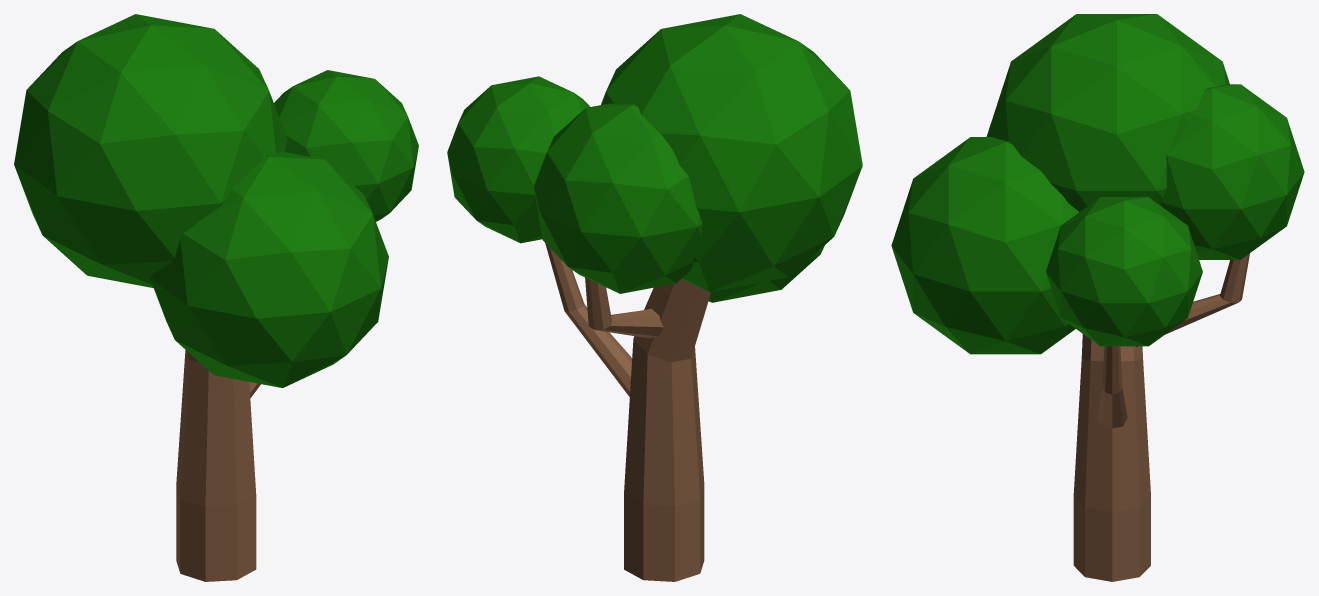
File: Tree1.fbx
3 views of the same model, side by side, from view 1: azimuth 30°, elevation 25°; view 2: azimuth 150°, elevation 25°; view 3: azimuth 270°, elevation 25° (orthographic). The views are drawn at different scales.
Parts seen in each view (by area): view 1: Tree1; view 2: Tree1; view 3: Tree1.
Part boxes in pixels (x1,y1,x2,y2): Tree1: (14,14,418,581); Tree1: (447,14,862,581); Tree1: (891,14,1304,581).
Bounding box in the file's own units: 522 × 737 × 534.
